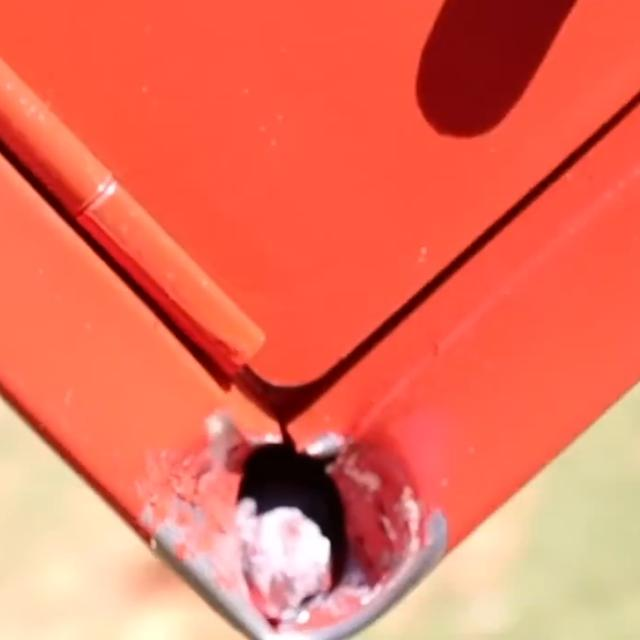bullets: (188, 434, 421, 640)
